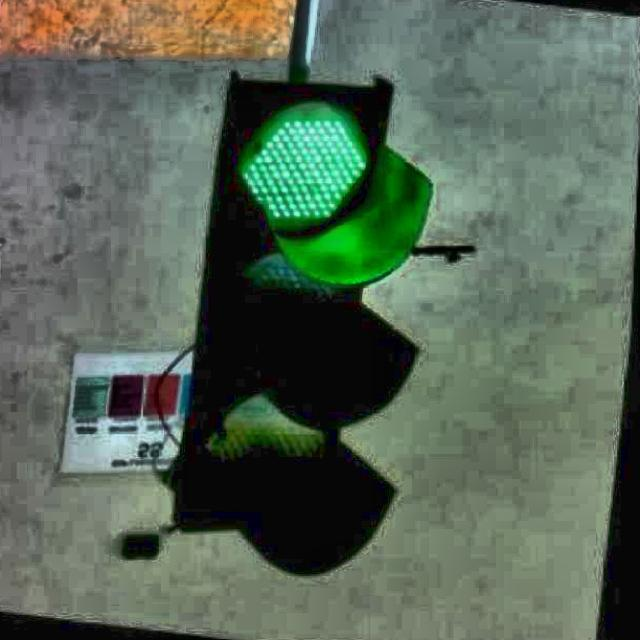green: (169, 61, 449, 587)
